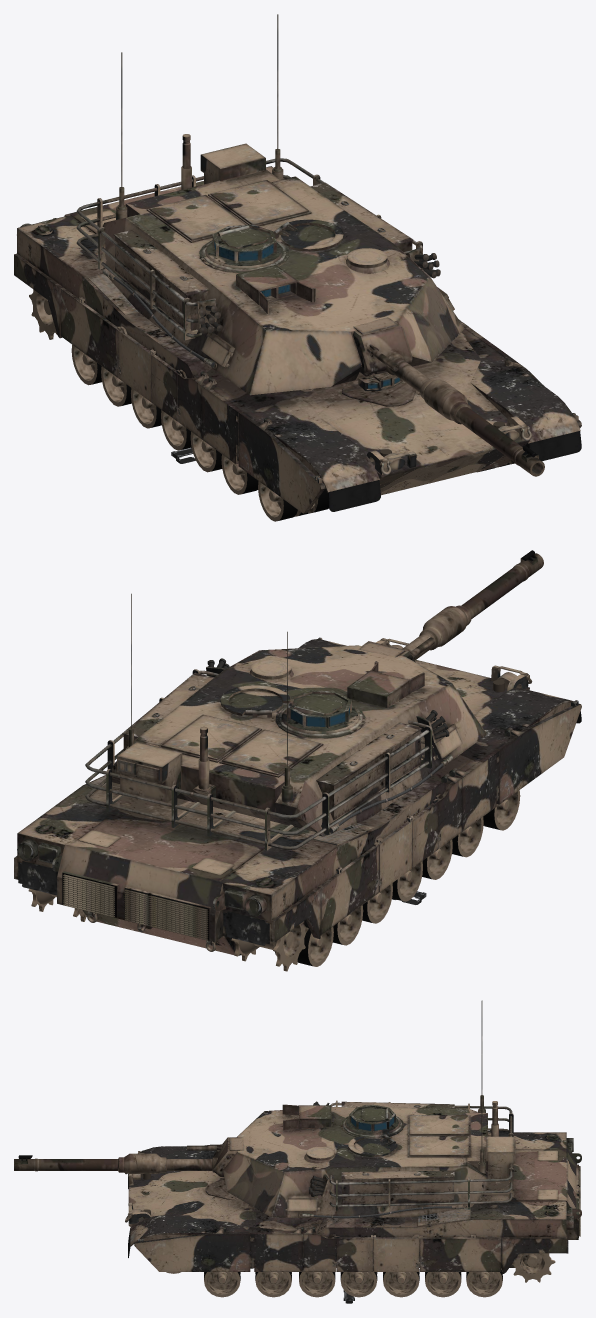
3 views of the same model, one above another, from view 1: azimuth 30°, elevation 25°; view 2: azimuth 150°, elevation 25°; view 3: azimuth 270°, elevation 25° (orthographic). The views are drawn at different scales.
Visible parts, largest first — view 1: turret, hull, gun, wheel_R_9, wheel_R_7, wheel_R_6, wheel_R_2, wheel_R_4, wheel_R_1, wheel_R_5, wheel_R_0; view 2: hull, turret, gun, wheel_R_0, wheel_R_1, wheel_R_9, wheel_R_7, wheel_R_5, wheel_R_4, wheel_R_6, wheel_R_2; view 3: hull, turret, gun, wheel_L_0, wheel_L_5, wheel_L_1, wheel_L_6, wheel_L_4, wheel_L_2, wheel_L_9, wheel_L_7.
Part boxes in pixels (bbox=[...]): turret: bbox=[76, 14, 464, 395]; hull: bbox=[14, 166, 581, 513]; gun: bbox=[353, 317, 544, 476]; wheel_R_9: bbox=[258, 481, 308, 521]; wheel_R_7: bbox=[221, 454, 258, 494]; wheel_R_6: bbox=[190, 432, 222, 472]; wheel_R_2: bbox=[101, 366, 131, 406]; wheel_R_4: bbox=[131, 388, 161, 428]; wheel_R_1: bbox=[71, 344, 101, 385]; wheel_R_5: bbox=[161, 410, 191, 450]; wheel_R_0: bbox=[29, 289, 57, 339]; hull: bbox=[14, 637, 581, 955]; turret: bbox=[85, 593, 486, 850]; gun: bbox=[359, 550, 543, 662]; wheel_R_0: bbox=[231, 921, 308, 971]; wheel_R_1: bbox=[274, 920, 333, 966]; wheel_R_9: bbox=[483, 790, 520, 830]; wheel_R_7: bbox=[452, 817, 483, 857]; wheel_R_5: bbox=[392, 861, 422, 901]; wheel_R_4: bbox=[362, 883, 392, 923]; wheel_R_6: bbox=[422, 839, 452, 879]; wheel_R_2: bbox=[332, 905, 363, 945]; hull: bbox=[125, 1132, 581, 1273]; turret: bbox=[223, 1000, 515, 1218]; gun: bbox=[14, 1137, 244, 1176]; wheel_L_0: bbox=[512, 1253, 555, 1282]; wheel_L_5: bbox=[340, 1259, 377, 1297]; wheel_L_1: bbox=[466, 1263, 502, 1297]; wheel_L_6: bbox=[299, 1259, 335, 1297]; wheel_L_4: bbox=[383, 1263, 419, 1297]; wheel_L_2: bbox=[425, 1272, 461, 1297]; wheel_L_9: bbox=[204, 1272, 240, 1297]; wheel_L_7: bbox=[255, 1272, 291, 1297].
Size of the model in its own units: 3.7 by 4.49 by 9.91.
Materials: 2 (2 with a texture image).
